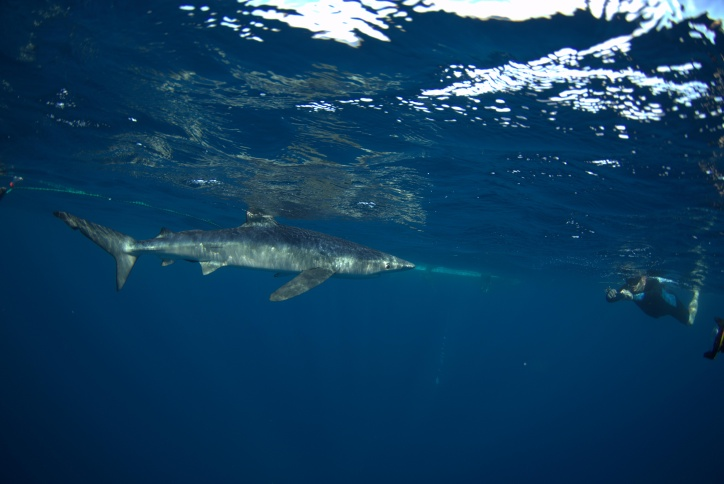Azul: (37, 189, 430, 324)
